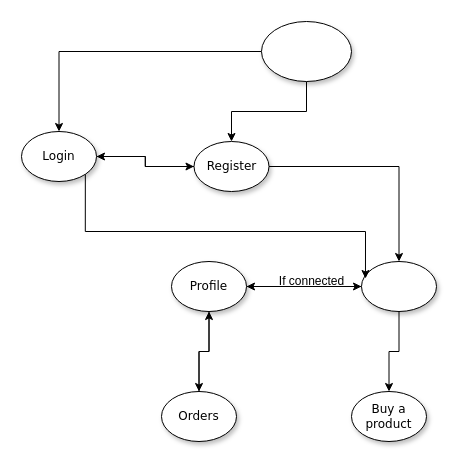
The diagram is 460 pixels wide and 466 high, and some of its shapes have lost their labels. Each missing label, with the centre of its shape:
Index: the point at 307,52
Research Products: the point at 399,287
